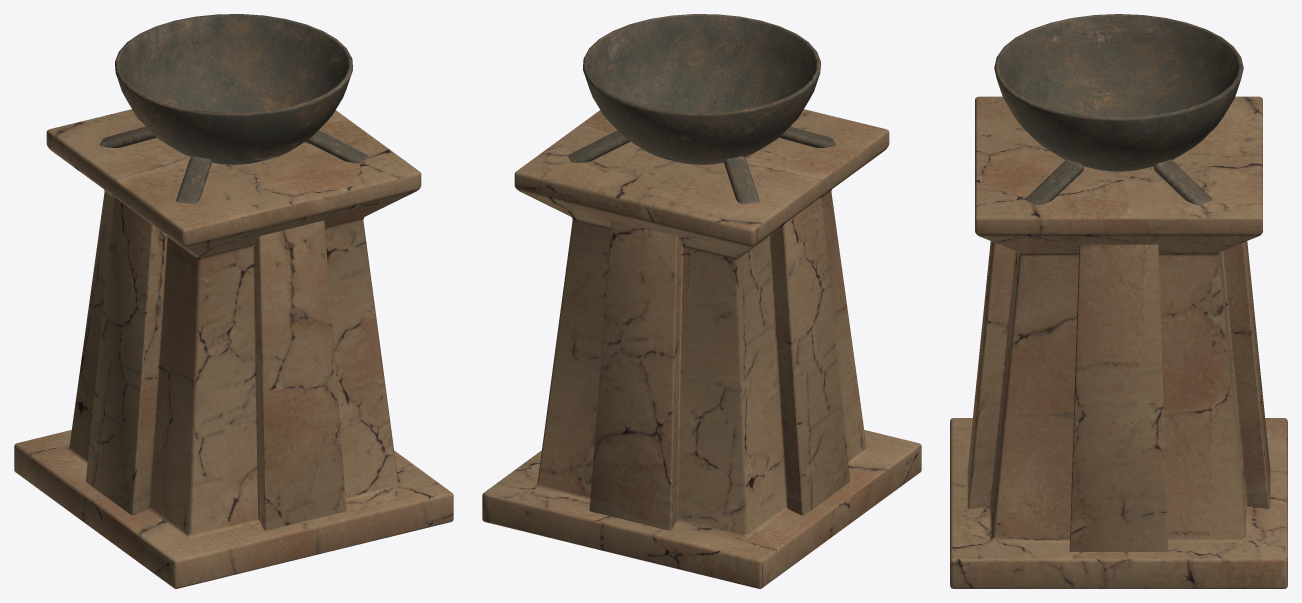
Rendered from Brazier.fbx.
3 views of the same model, side by side, from view 1: azimuth 30°, elevation 25°; view 2: azimuth 150°, elevation 25°; view 3: azimuth 270°, elevation 25° (orthographic). The views are drawn at different scales.
Parts seen in each view (by area): view 1: Cube_Stone_0, Sphere_metal_0, Plane_metal_0; view 2: Cube_Stone_0, Sphere_metal_0, Plane_metal_0; view 3: Cube_Stone_0, Sphere_metal_0, Plane_metal_0.
Part boxes in pixels (box(x1,y1,x2,y2)): Cube_Stone_0: box(14, 109, 453, 588); Sphere_metal_0: box(115, 14, 352, 164); Plane_metal_0: box(99, 126, 368, 203); Cube_Stone_0: box(482, 109, 921, 588); Sphere_metal_0: box(583, 14, 820, 164); Plane_metal_0: box(567, 126, 836, 203); Cube_Stone_0: box(950, 96, 1287, 588); Sphere_metal_0: box(994, 14, 1243, 171); Plane_metal_0: box(1025, 159, 1212, 205).
Bounding box in the file's own units: 200 × 296 × 200.
